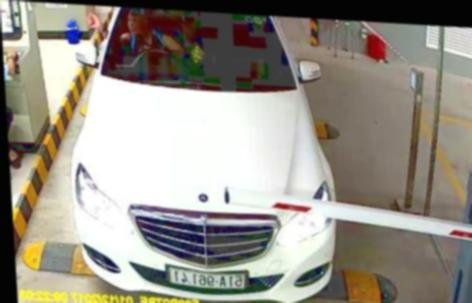License_Plate: (165, 265, 249, 291)
